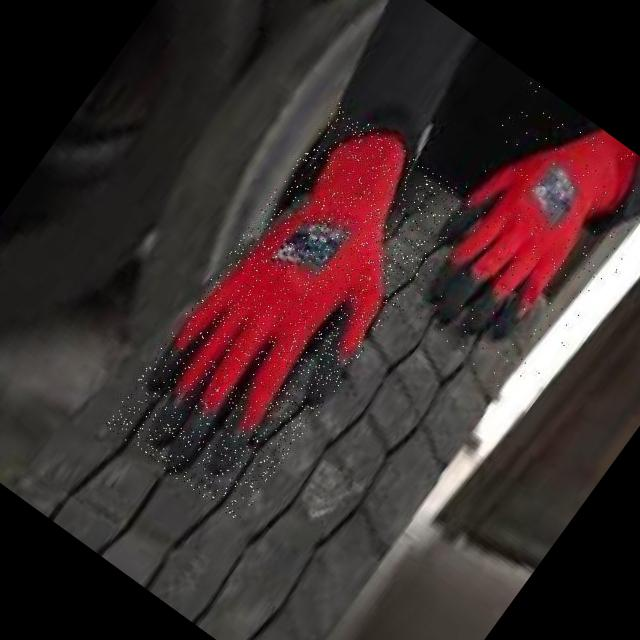forklift: (133, 100, 470, 478), (394, 90, 640, 365)
